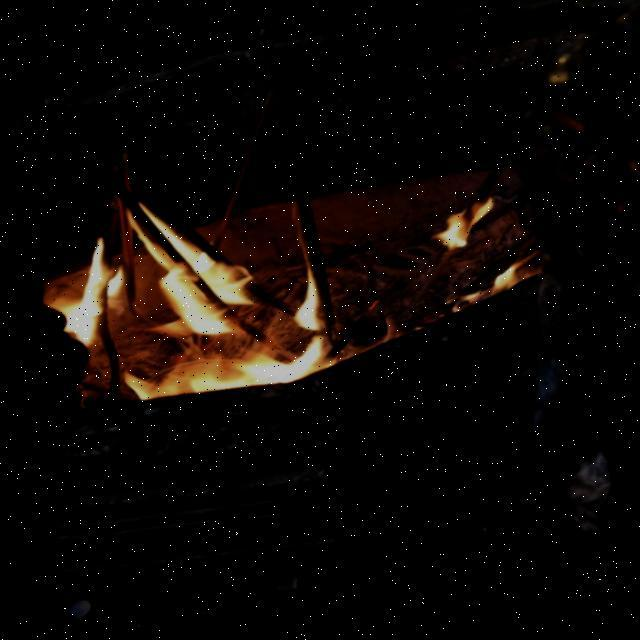Fire: (19, 109, 562, 424)
